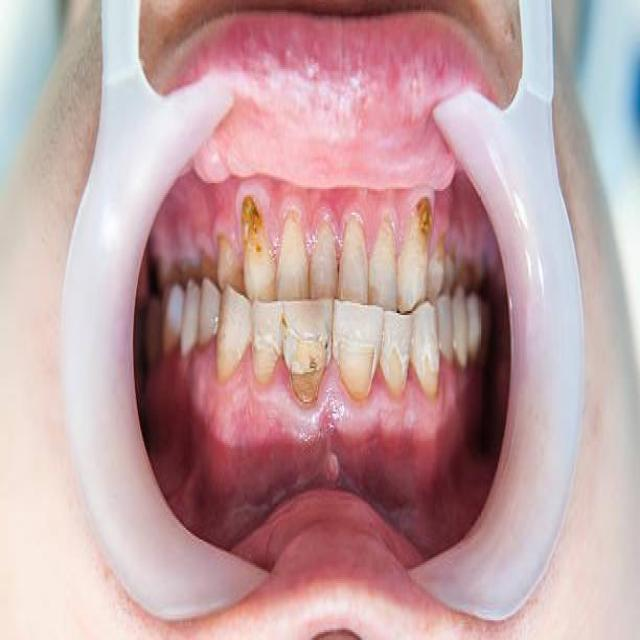caries: (282, 324, 328, 412), (335, 325, 378, 407), (248, 326, 284, 394), (378, 335, 409, 408), (414, 340, 443, 407)
